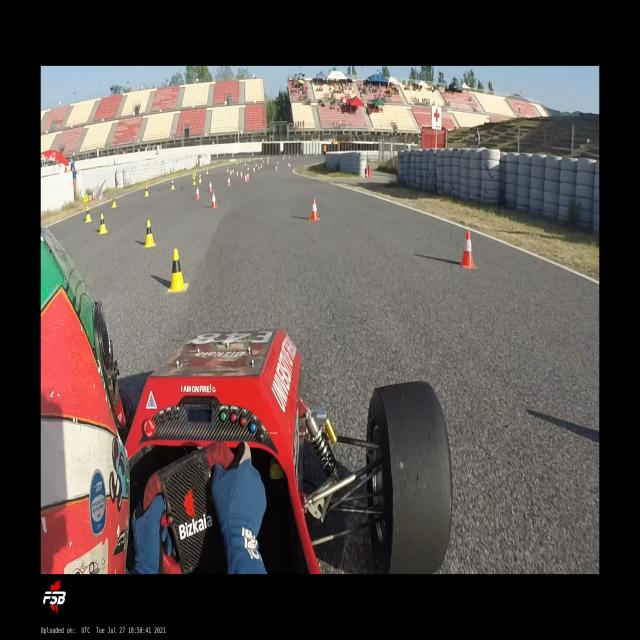orange_cone: (459, 231, 476, 268), (310, 197, 320, 221), (211, 192, 217, 208), (195, 186, 200, 199), (208, 181, 212, 192), (246, 172, 249, 181), (244, 174, 247, 182), (228, 177, 230, 186), (240, 171, 242, 179), (236, 170, 238, 177)
yellow_cone: (167, 248, 188, 293), (144, 219, 156, 247), (99, 213, 108, 234), (85, 206, 92, 223), (111, 195, 117, 208), (195, 186, 200, 200), (145, 185, 149, 197), (171, 180, 175, 190), (198, 174, 202, 183), (83, 195, 88, 202), (192, 177, 195, 185), (194, 171, 197, 177), (192, 172, 195, 177), (207, 170, 208, 174)
